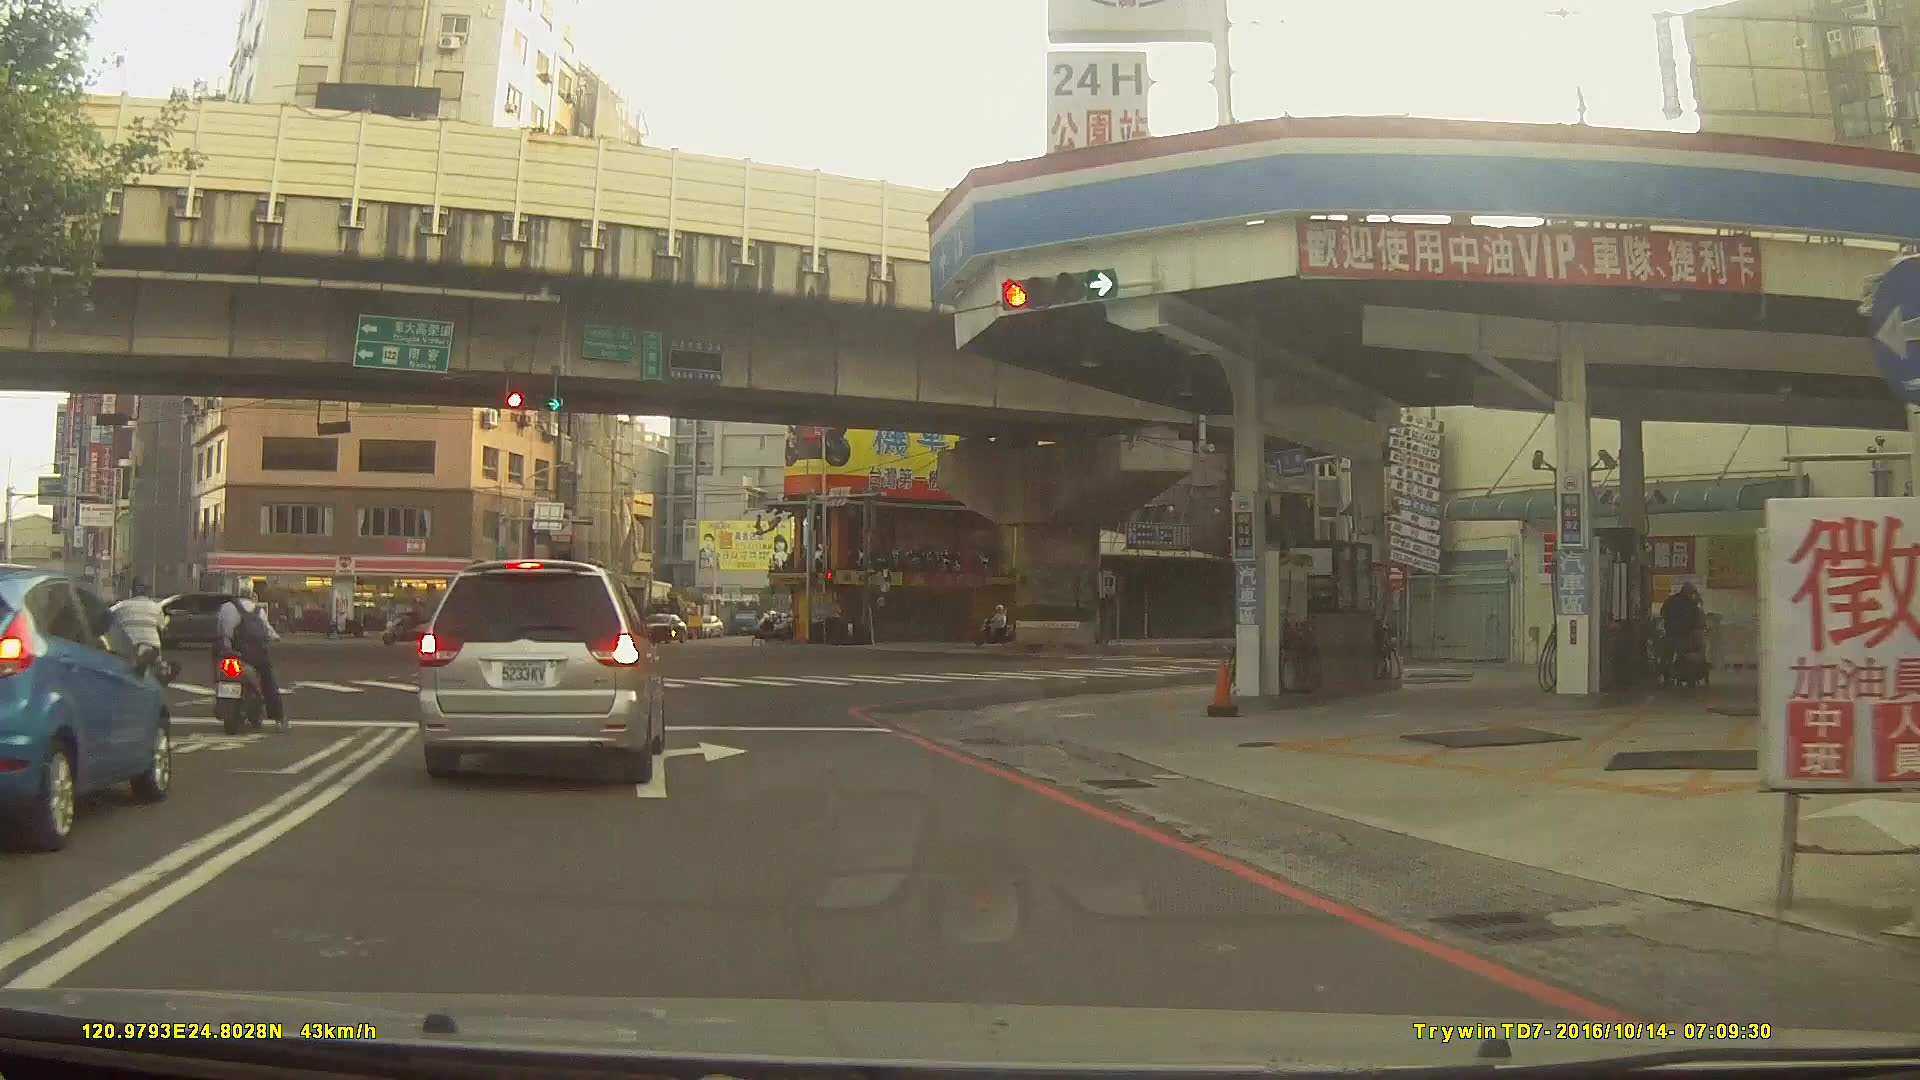rider: (211, 576, 283, 740), (108, 577, 176, 734), (380, 596, 433, 649), (978, 605, 1014, 647)
vehicle: (414, 558, 667, 784), (0, 560, 172, 850), (102, 589, 255, 646), (543, 606, 605, 633)
